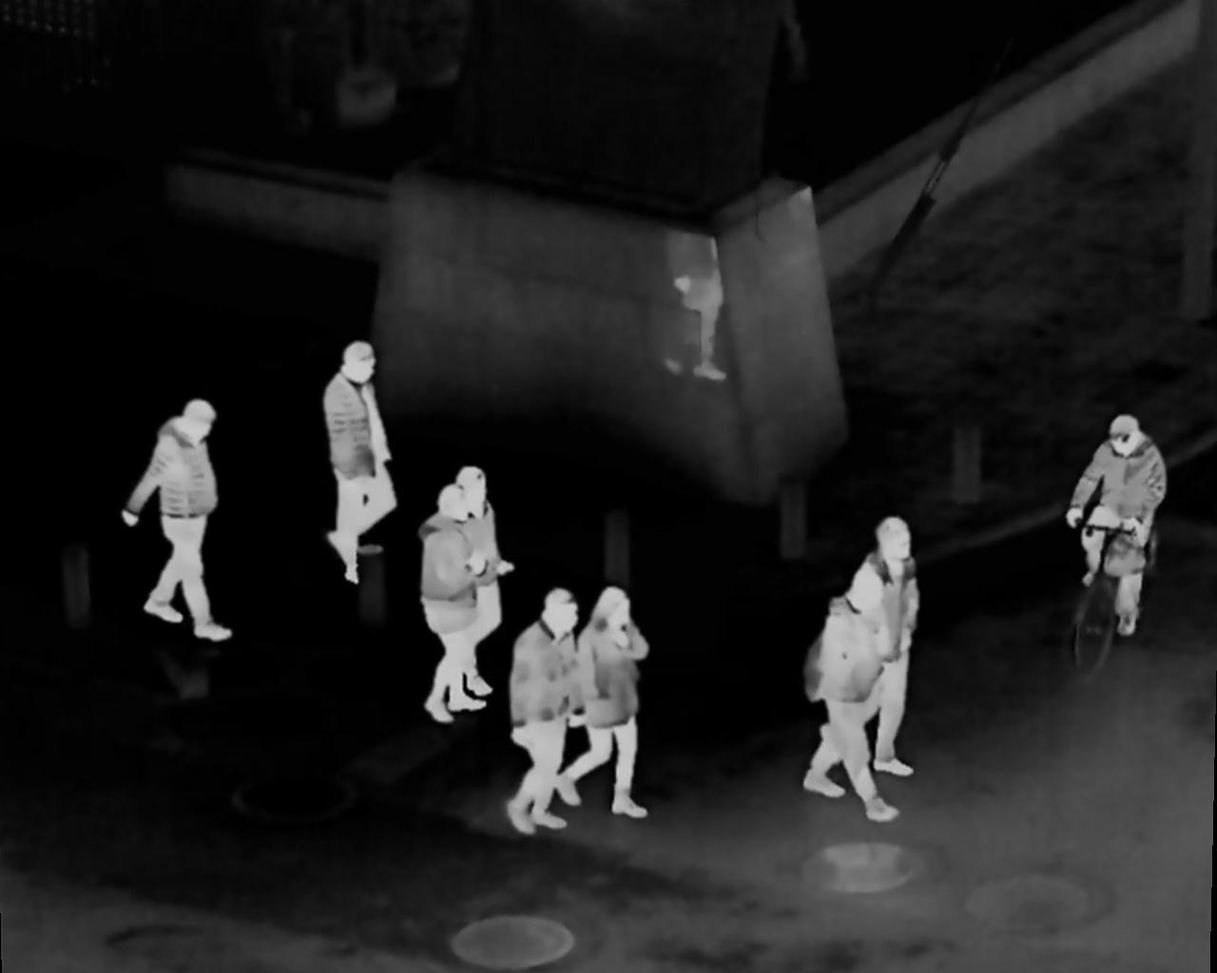person: (127, 387, 236, 639), (413, 476, 492, 735), (319, 338, 395, 597), (571, 589, 659, 799), (520, 590, 588, 848), (1084, 417, 1162, 627), (868, 505, 927, 759), (813, 573, 877, 793)
